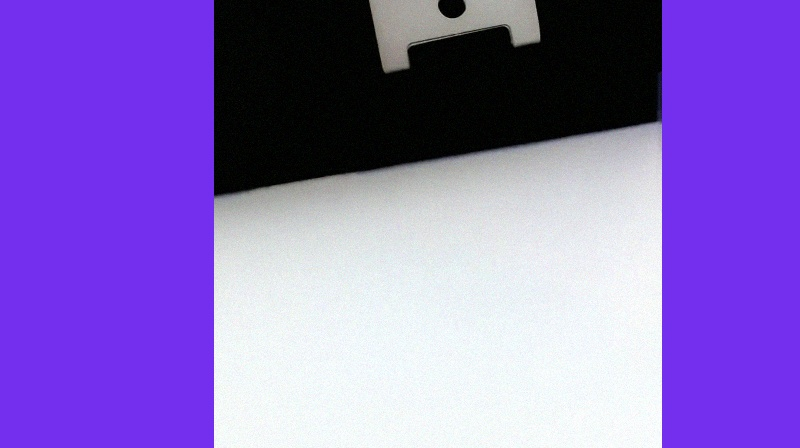O002: (359, 0, 544, 72)
